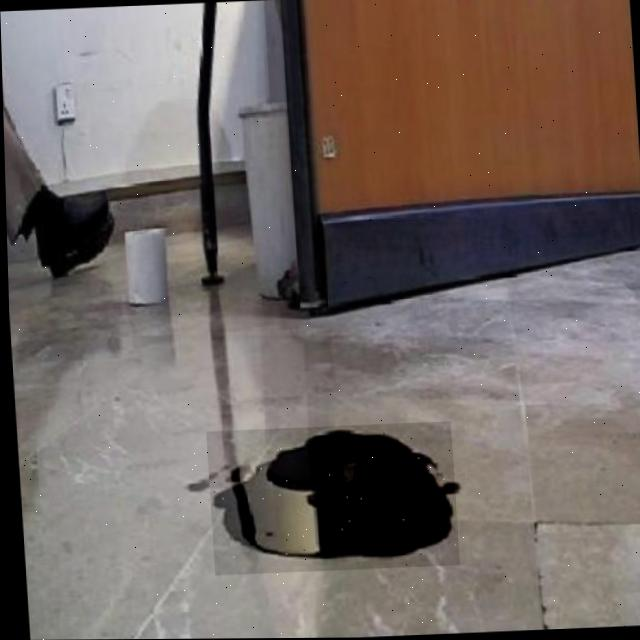spillage: (207, 426, 452, 570)
